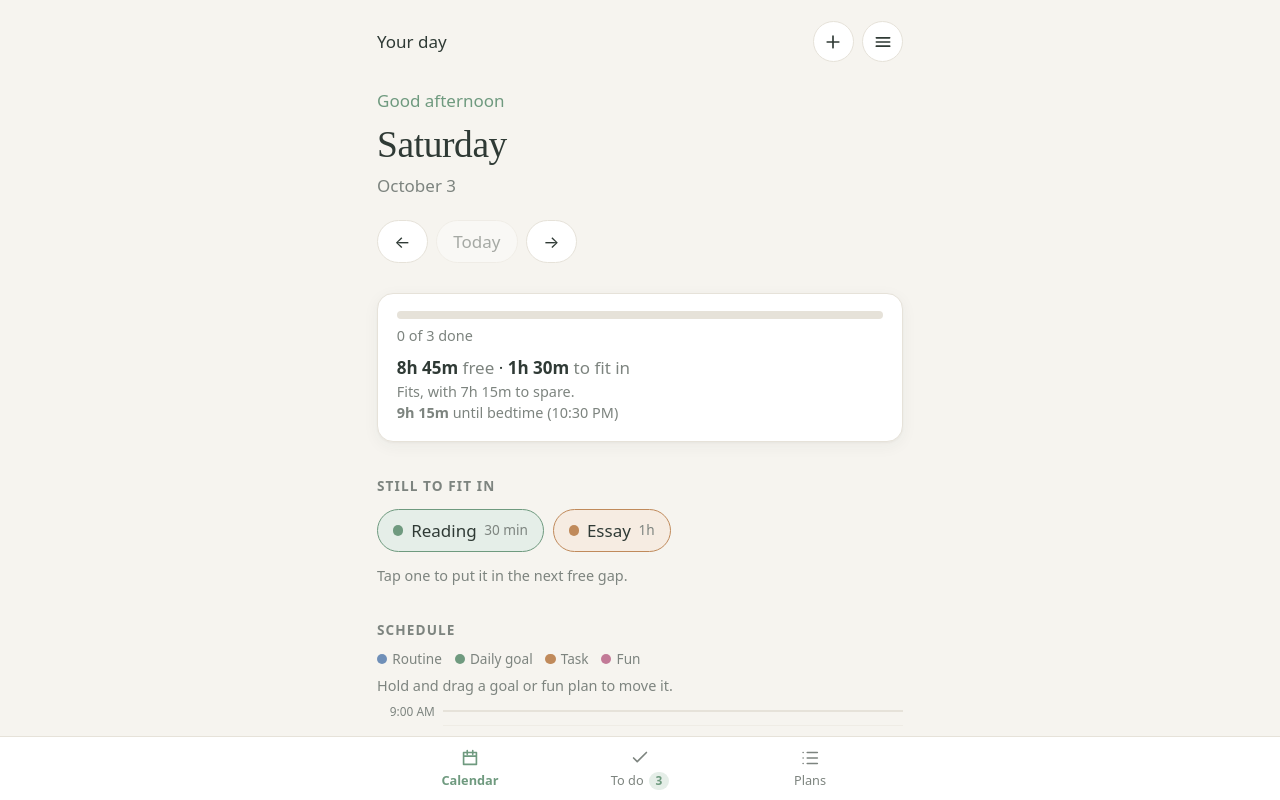
what is left › shows what is still to fit in above the calendar, and schedules it with one tap
Expected: the heading "Saturday" is shown, x1=377 y1=124 x2=507 y2=165
Click the button with aria-label "Schedule Essay" at (612, 531), box x1=553 y1=509 x2=671 y2=552
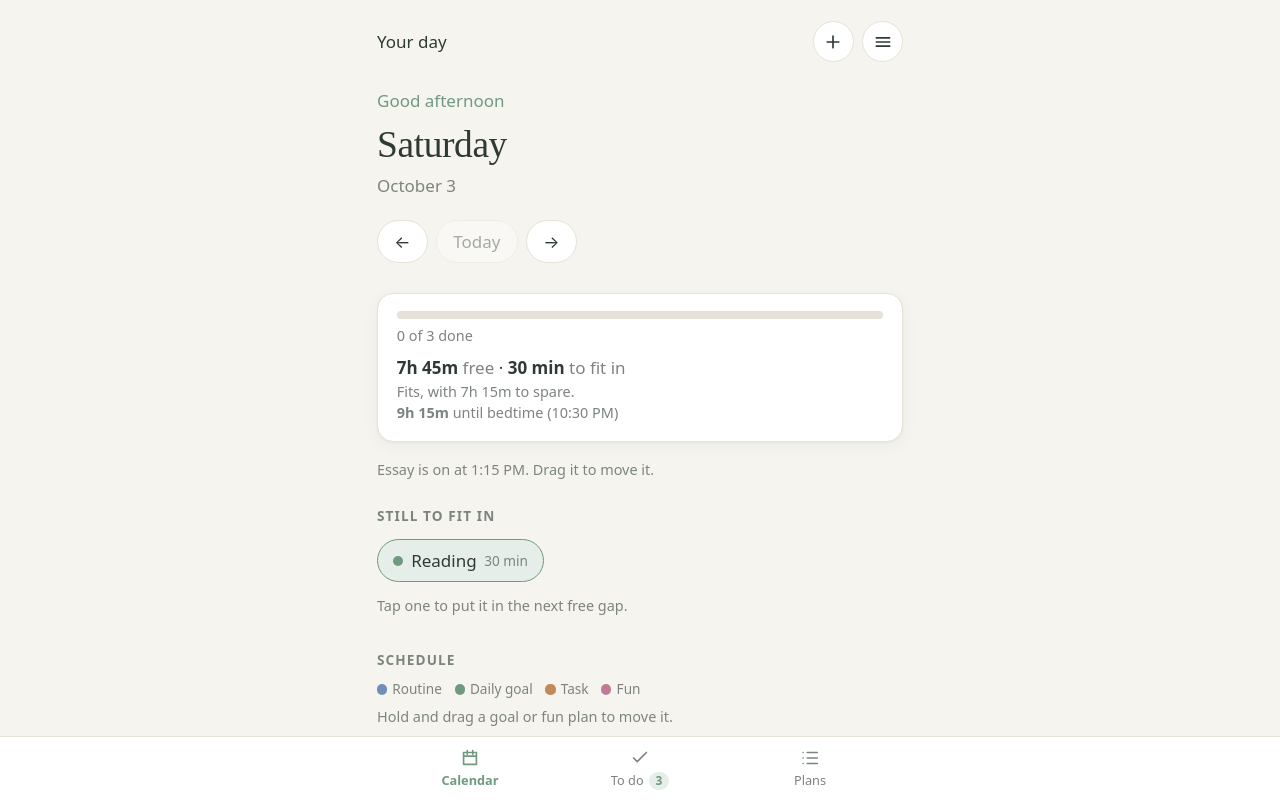
Result: the message shows "Essay is on at 1:15 PM" at x1=377 y1=460 x2=654 y2=479
